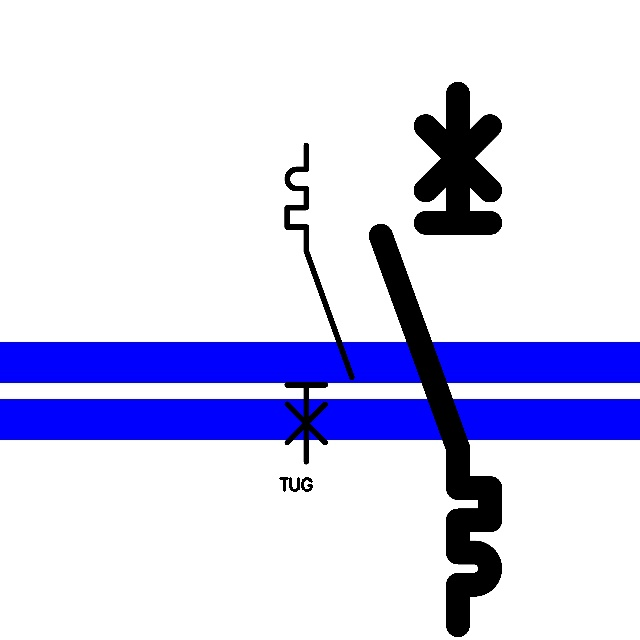interruptor_termomagnetico: (367, 80, 504, 639), (279, 137, 360, 470)
